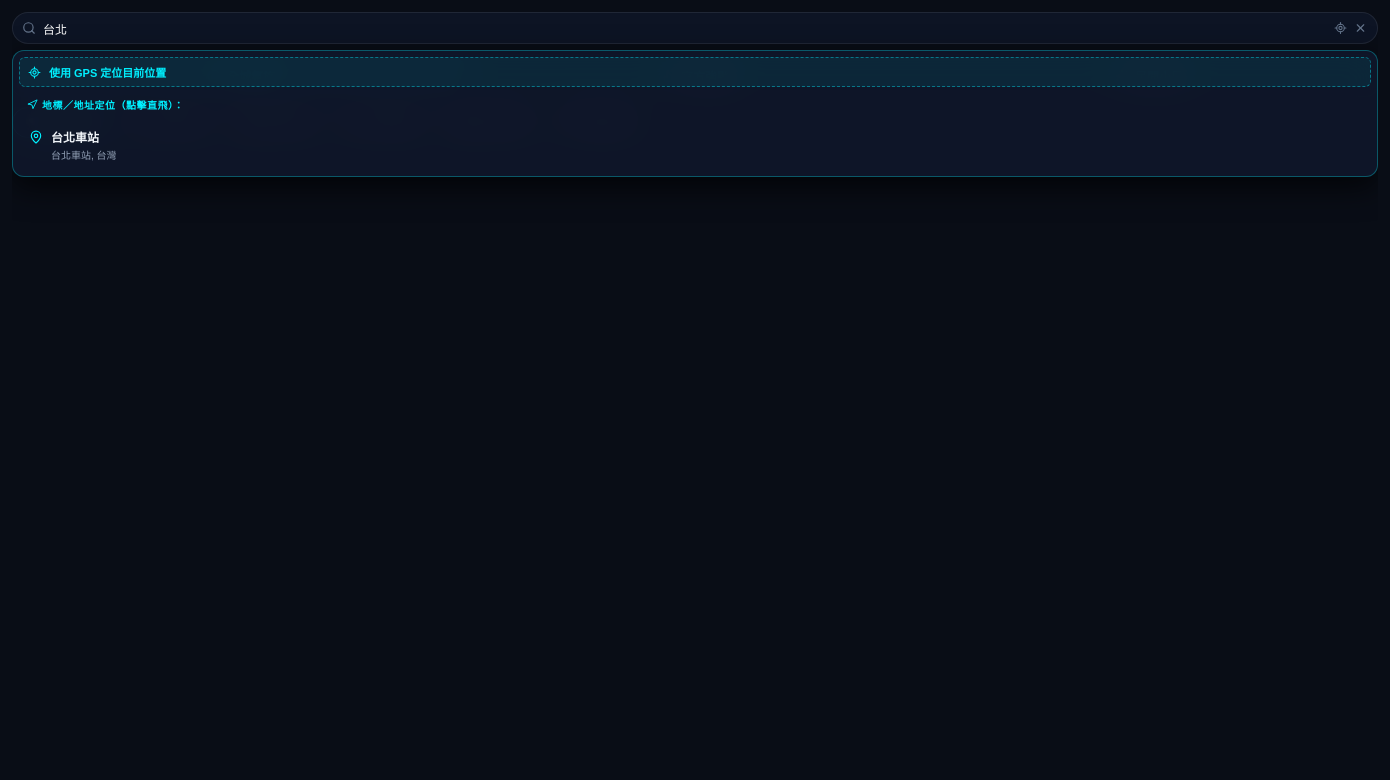
it: TonightFilter › Geocoding Interactions › closes dropdown on click outside
Expected: the text "台北車站" is shown, [51,131,99,145]
// trigger document mousedown
Press the mouse on the element that starts with "使用 GPS 定位目前位置": (695, 396) [12,12,1378,779]
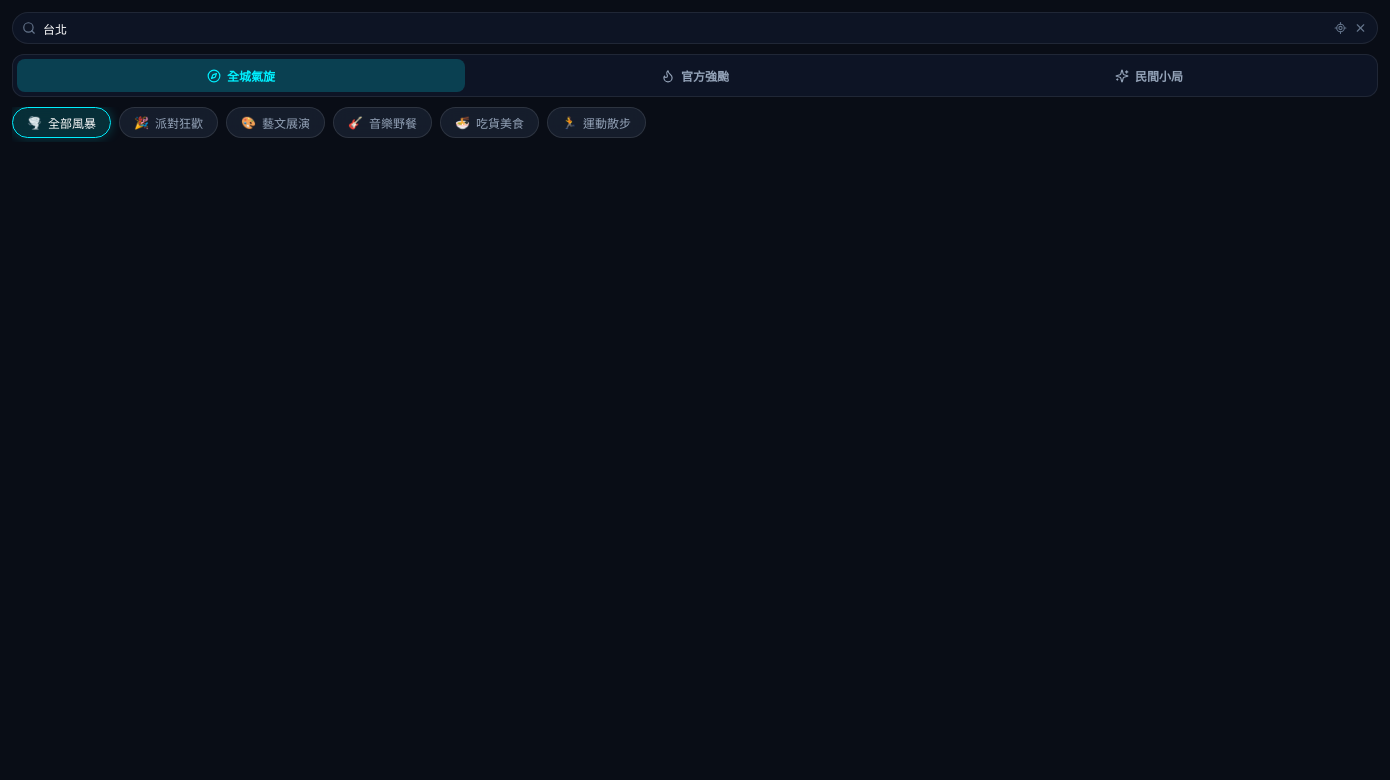
Expected: the text "地標／地址定位（點擊直飛）：" is gone
